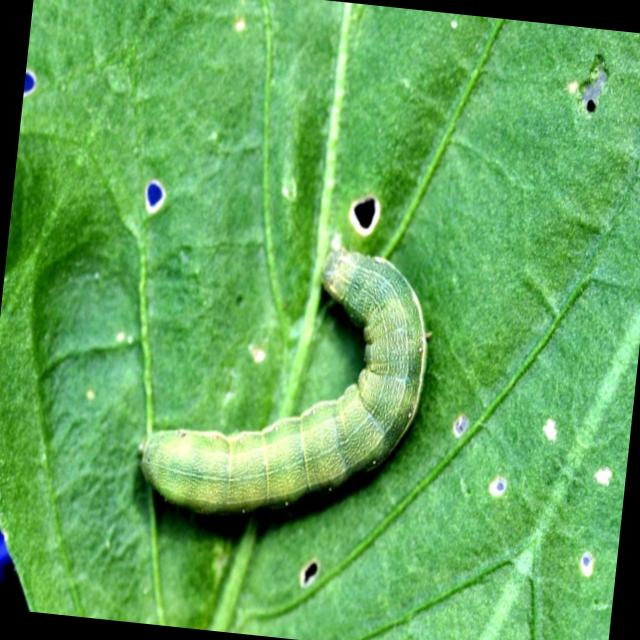Armyworm: (109, 207, 483, 545)
Armyworm_damage: (278, 538, 342, 600), (21, 42, 58, 122), (344, 190, 396, 246), (134, 166, 183, 222), (562, 531, 603, 580), (485, 465, 520, 505)
